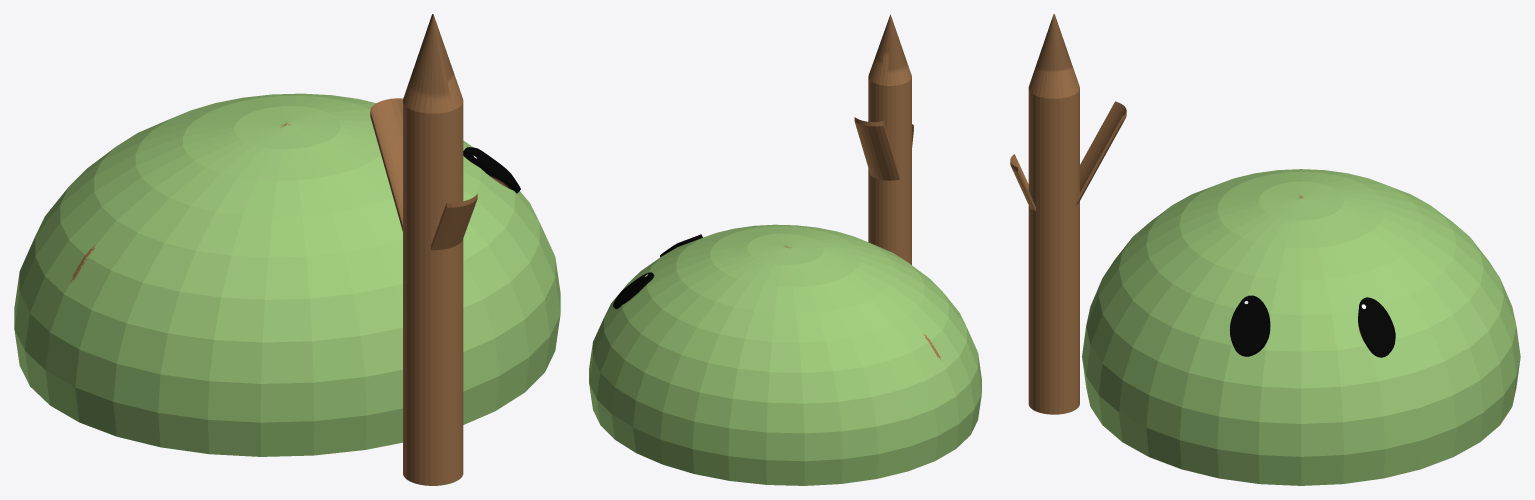
File: slime.gltf
3 views of the same model, side by side, from view 1: azimuth 30°, elevation 25°; view 2: azimuth 150°, elevation 25°; view 3: azimuth 270°, elevation 25° (orthographic). The views are drawn at different scales.
Visible parts, largest first — view 1: Sphere; view 2: Sphere; view 3: Sphere.
Boxes of the visible parts, x1=… form: Sphere: x1=14, y1=14, x2=560, y2=485; Sphere: x1=589, y1=14, x2=981, y2=485; Sphere: x1=1010, y1=14, x2=1520, y2=485.
Bounding box in the file's own units: 2.35 × 2.13 × 2.53.
1 material, 1 textured.
